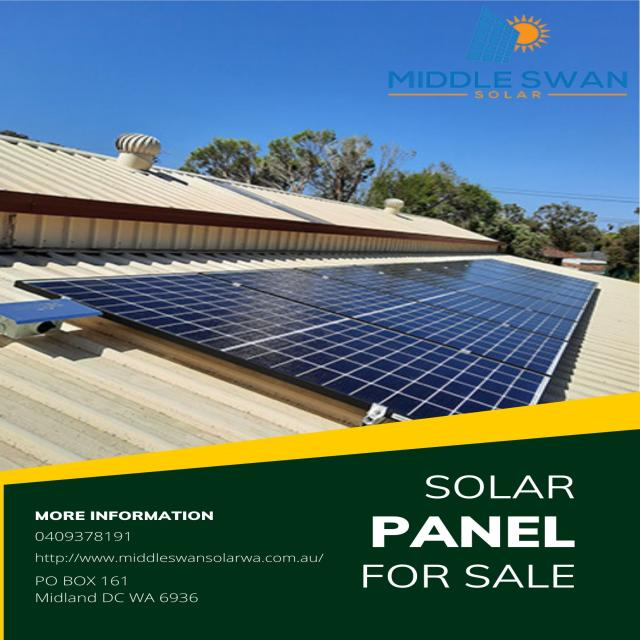clean-solar-panel: (18, 259, 596, 419)
